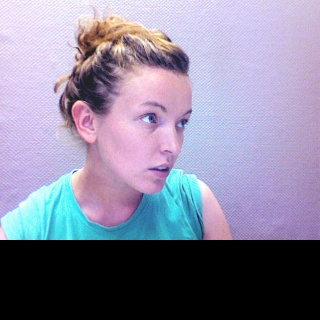without_mask: (94, 67, 194, 197)
